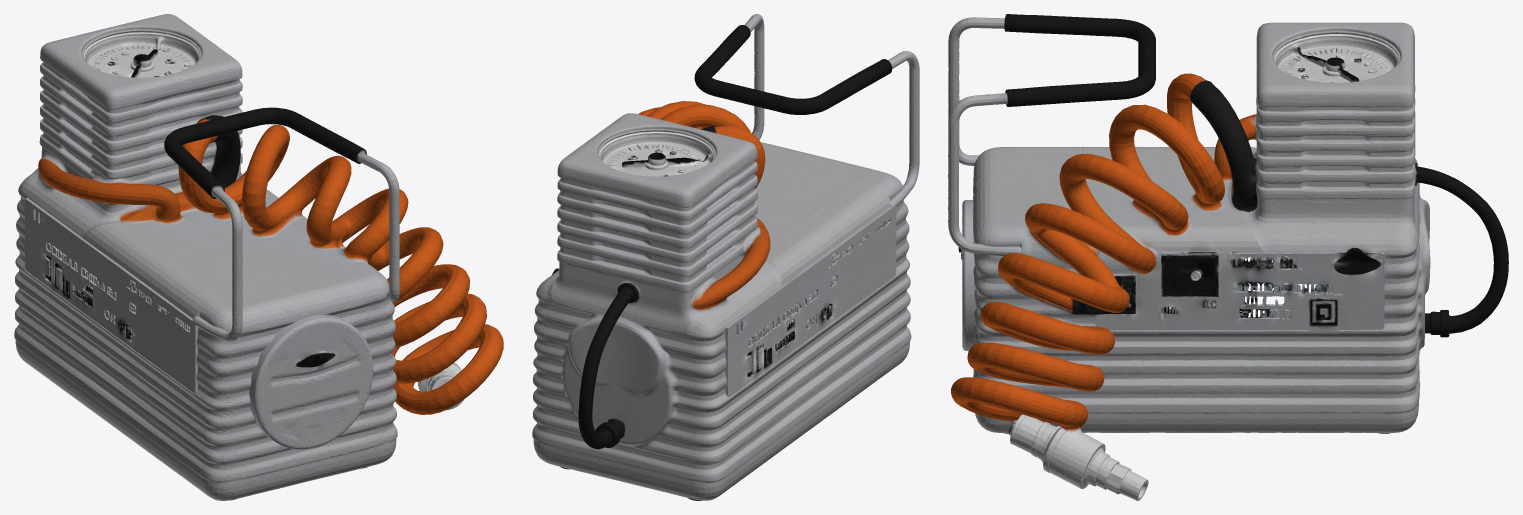
The model's file is air-compressor-3d-model.glb.
3 renders of one model, left to right at view 1: azimuth 30°, elevation 25°; view 2: azimuth 150°, elevation 25°; view 3: azimuth 270°, elevation 25°, orthographic. The views are drawn at different scales.
Visible parts, largest first — view 1: tripo_node_13442c52-a311-4f6a-abe9-539164b57eb5; view 2: tripo_node_13442c52-a311-4f6a-abe9-539164b57eb5; view 3: tripo_node_13442c52-a311-4f6a-abe9-539164b57eb5.
Boxes of the visible parts, <box> form: tripo_node_13442c52-a311-4f6a-abe9-539164b57eb5: <box>14,14,503,500</box>; tripo_node_13442c52-a311-4f6a-abe9-539164b57eb5: <box>532,14,919,500</box>; tripo_node_13442c52-a311-4f6a-abe9-539164b57eb5: <box>948,14,1508,500</box>.
Size of the model in its own units: 0.6831 by 0.6663 by 0.9977.
1 material, 1 textured.
